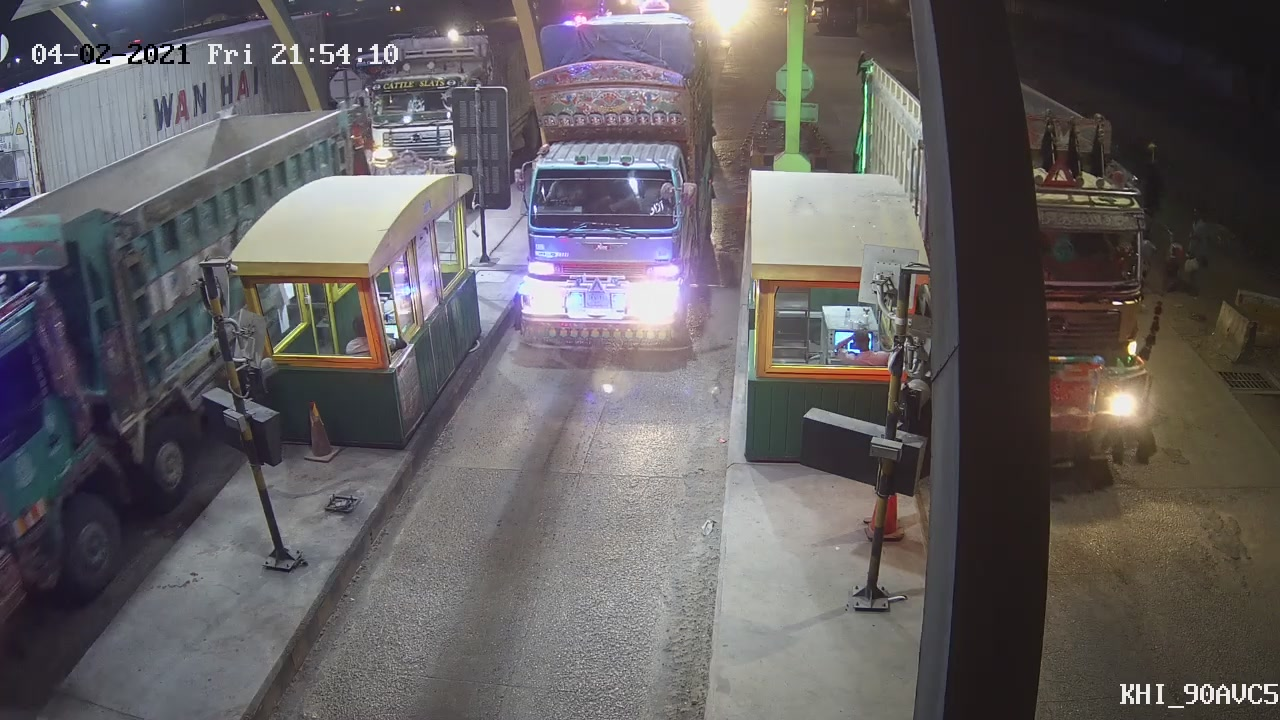F5: (499, 55, 715, 360)
